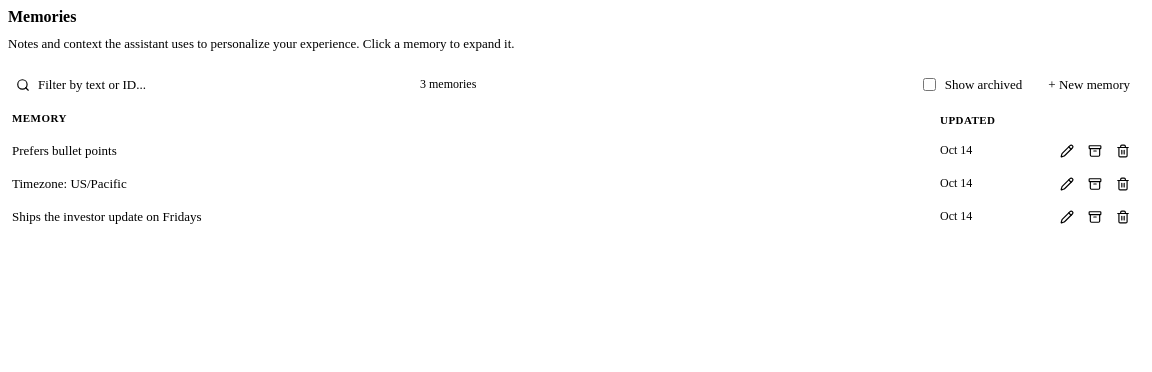
Test: MemoriesSection › creates a memory from the toolbar and prepends it
Expected: the text "Prefers bullet points" is shown, [12,143,117,158]
Click the button "+ New memory": coordinates (1089, 84) [1034,70,1144,98]
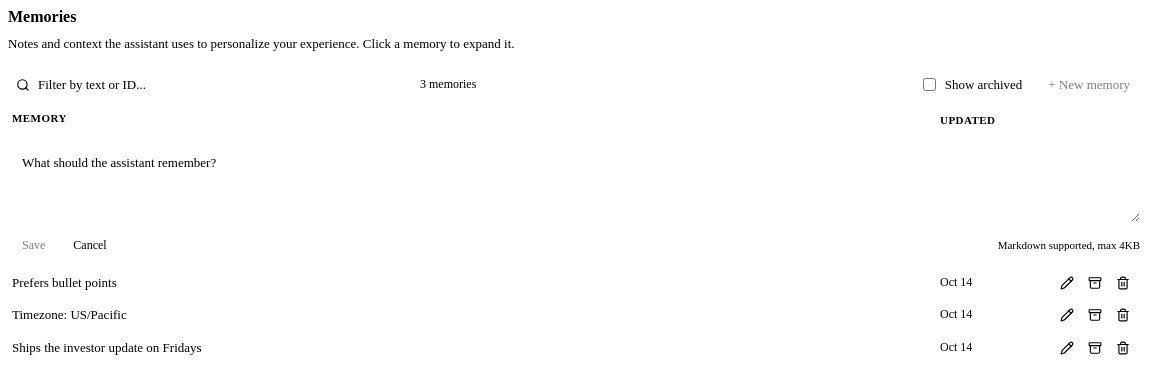
In the text box named "New memory": coordinates (576, 182) [12,143,1140,222], type "Reads German"
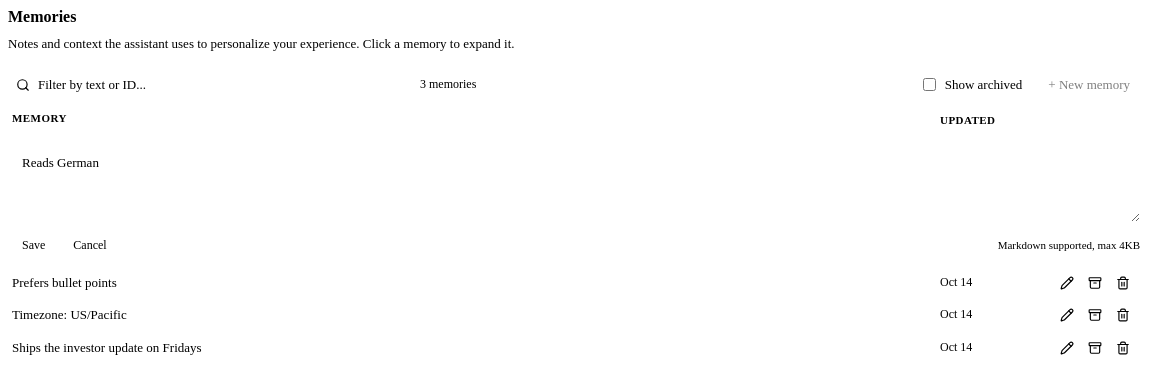
Click the button "Save": coordinates (34, 245) [12,234,55,257]
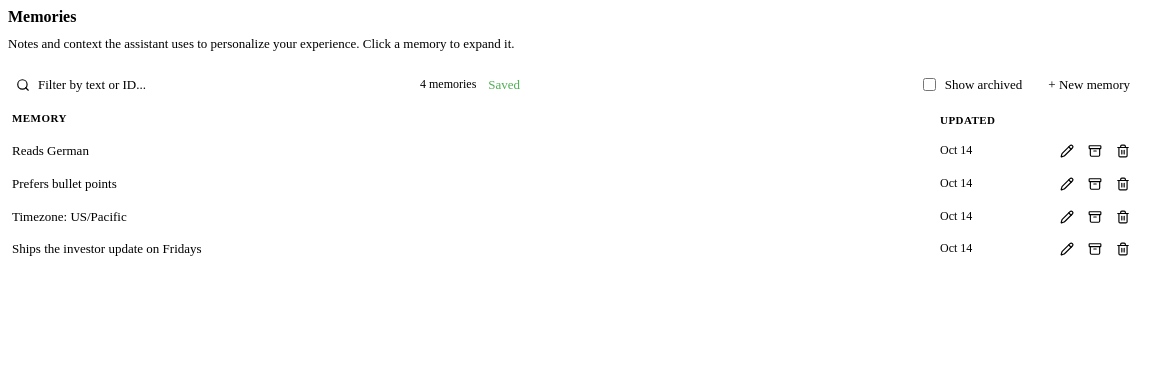
Expected: the row "Reads German Oct 14" is shown, [8,135,1144,168]
Expected: the text "4 memories" is shown, [420,77,476,92]
